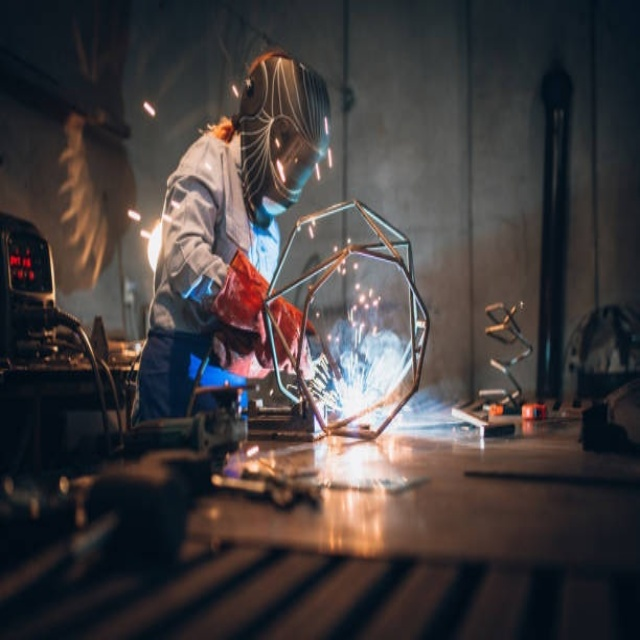Guantes: (211, 235, 319, 391)
